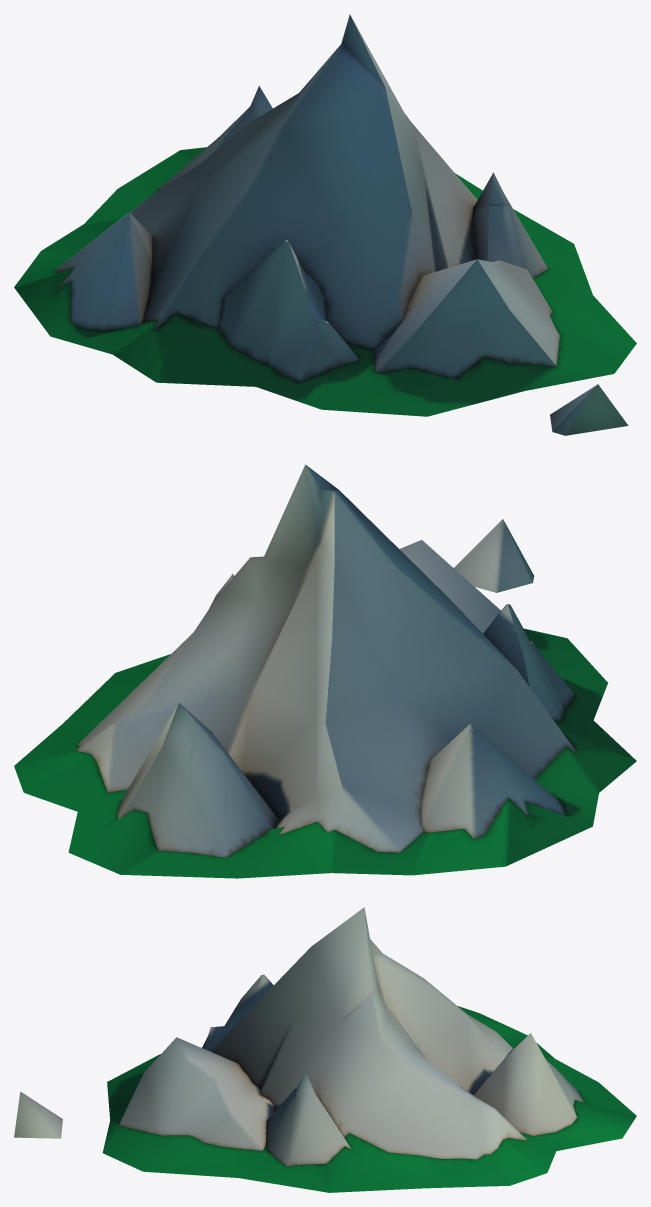
Rendered from Sce_worldmap_mountain_01.FBX.
3 views of the same model, one above another, from view 1: azimuth 30°, elevation 25°; view 2: azimuth 150°, elevation 25°; view 3: azimuth 270°, elevation 25° (orthographic). The views are drawn at different scales.
Visible parts, largest first — view 1: Sce_worldmap_mountain_01; view 2: Sce_worldmap_mountain_01; view 3: Sce_worldmap_mountain_01.
Boxes of the visible parts, <box> form: Sce_worldmap_mountain_01: <box>14,14,636,435</box>; Sce_worldmap_mountain_01: <box>14,464,636,878</box>; Sce_worldmap_mountain_01: <box>14,907,636,1192</box>.
Bounding box in the file's own units: 113 × 59.54 × 158.
